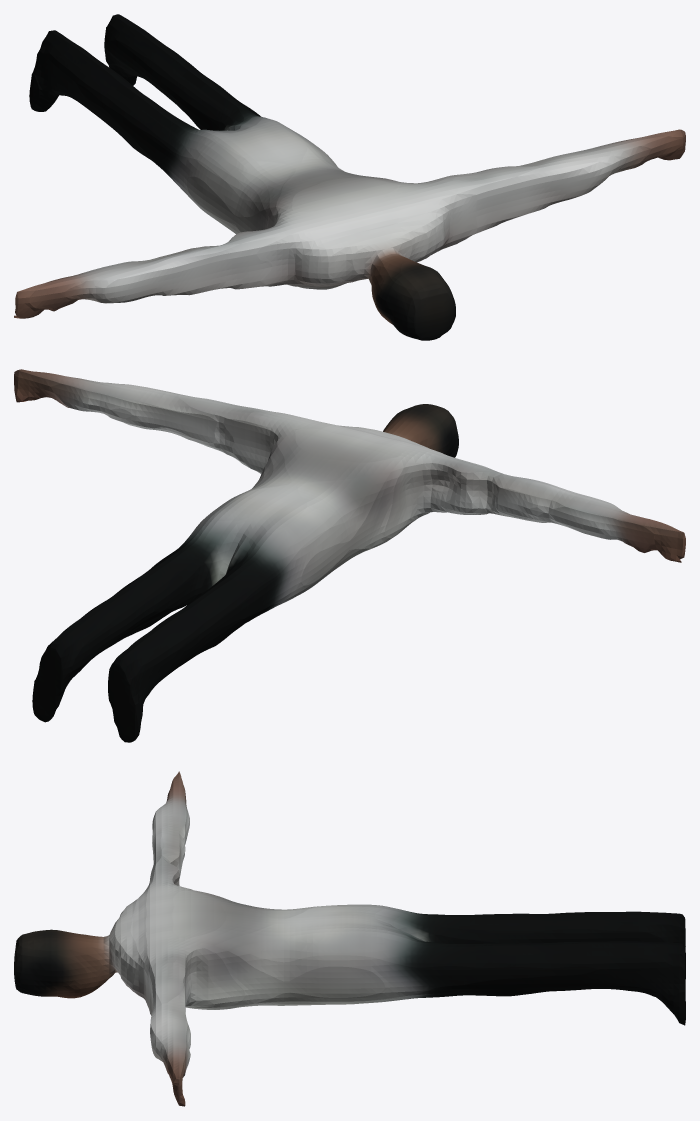
File: sample.obj
3 renders of one model, top to bottom at view 1: azimuth 30°, elevation 25°; view 2: azimuth 150°, elevation 25°; view 3: azimuth 270°, elevation 25°, orthographic. The views are drawn at different scales.
Bounding box in the file's own units: 1.96 × 0.2731 × 1.79.
